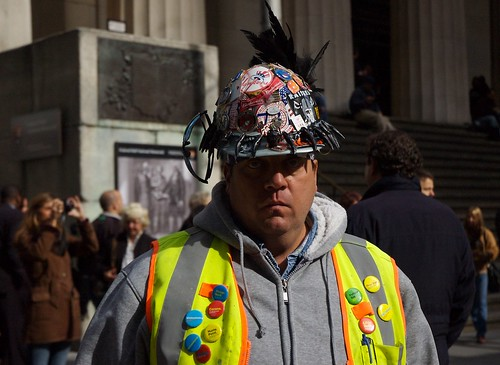person hardhat: (64, 37, 454, 365)
